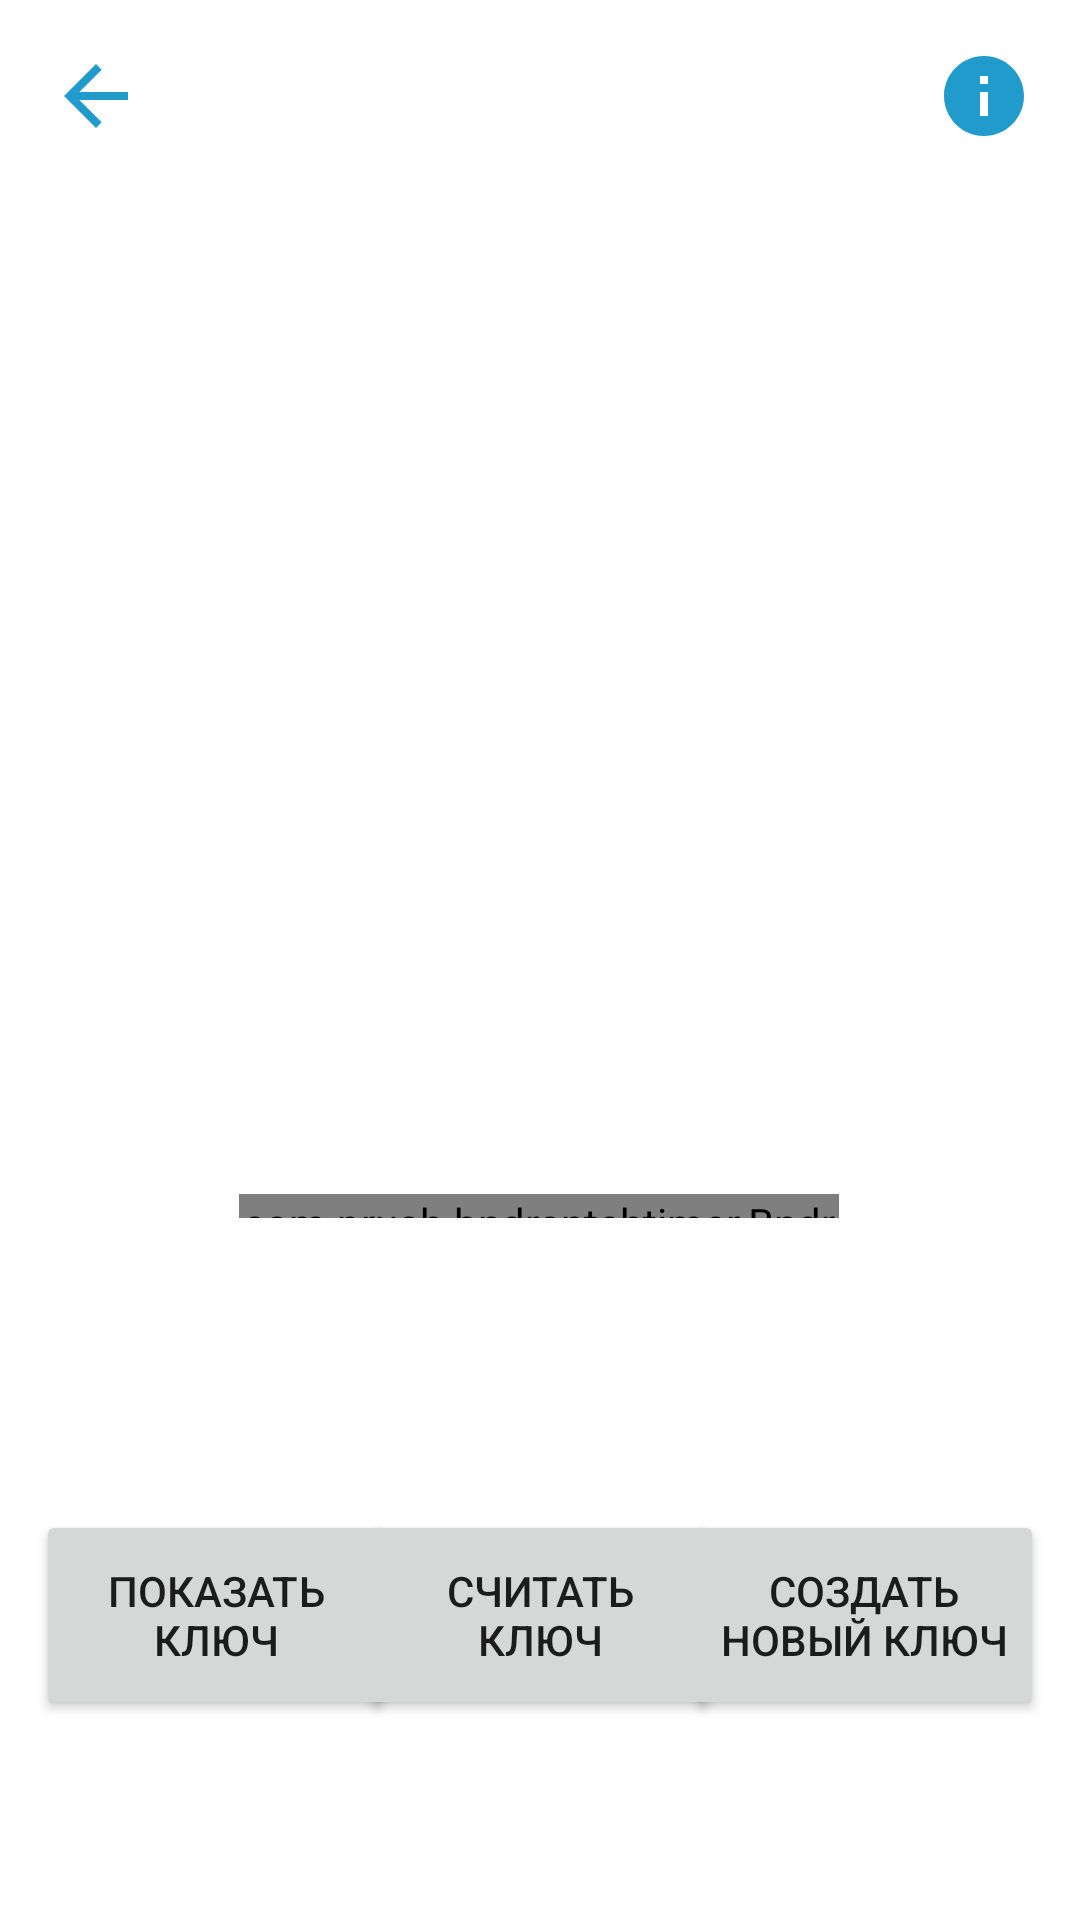

Icon click points for this 1080x1920 phone screenshot, format (x=x, y=y):
back: (x=96, y=96)
info: (x=984, y=96)
